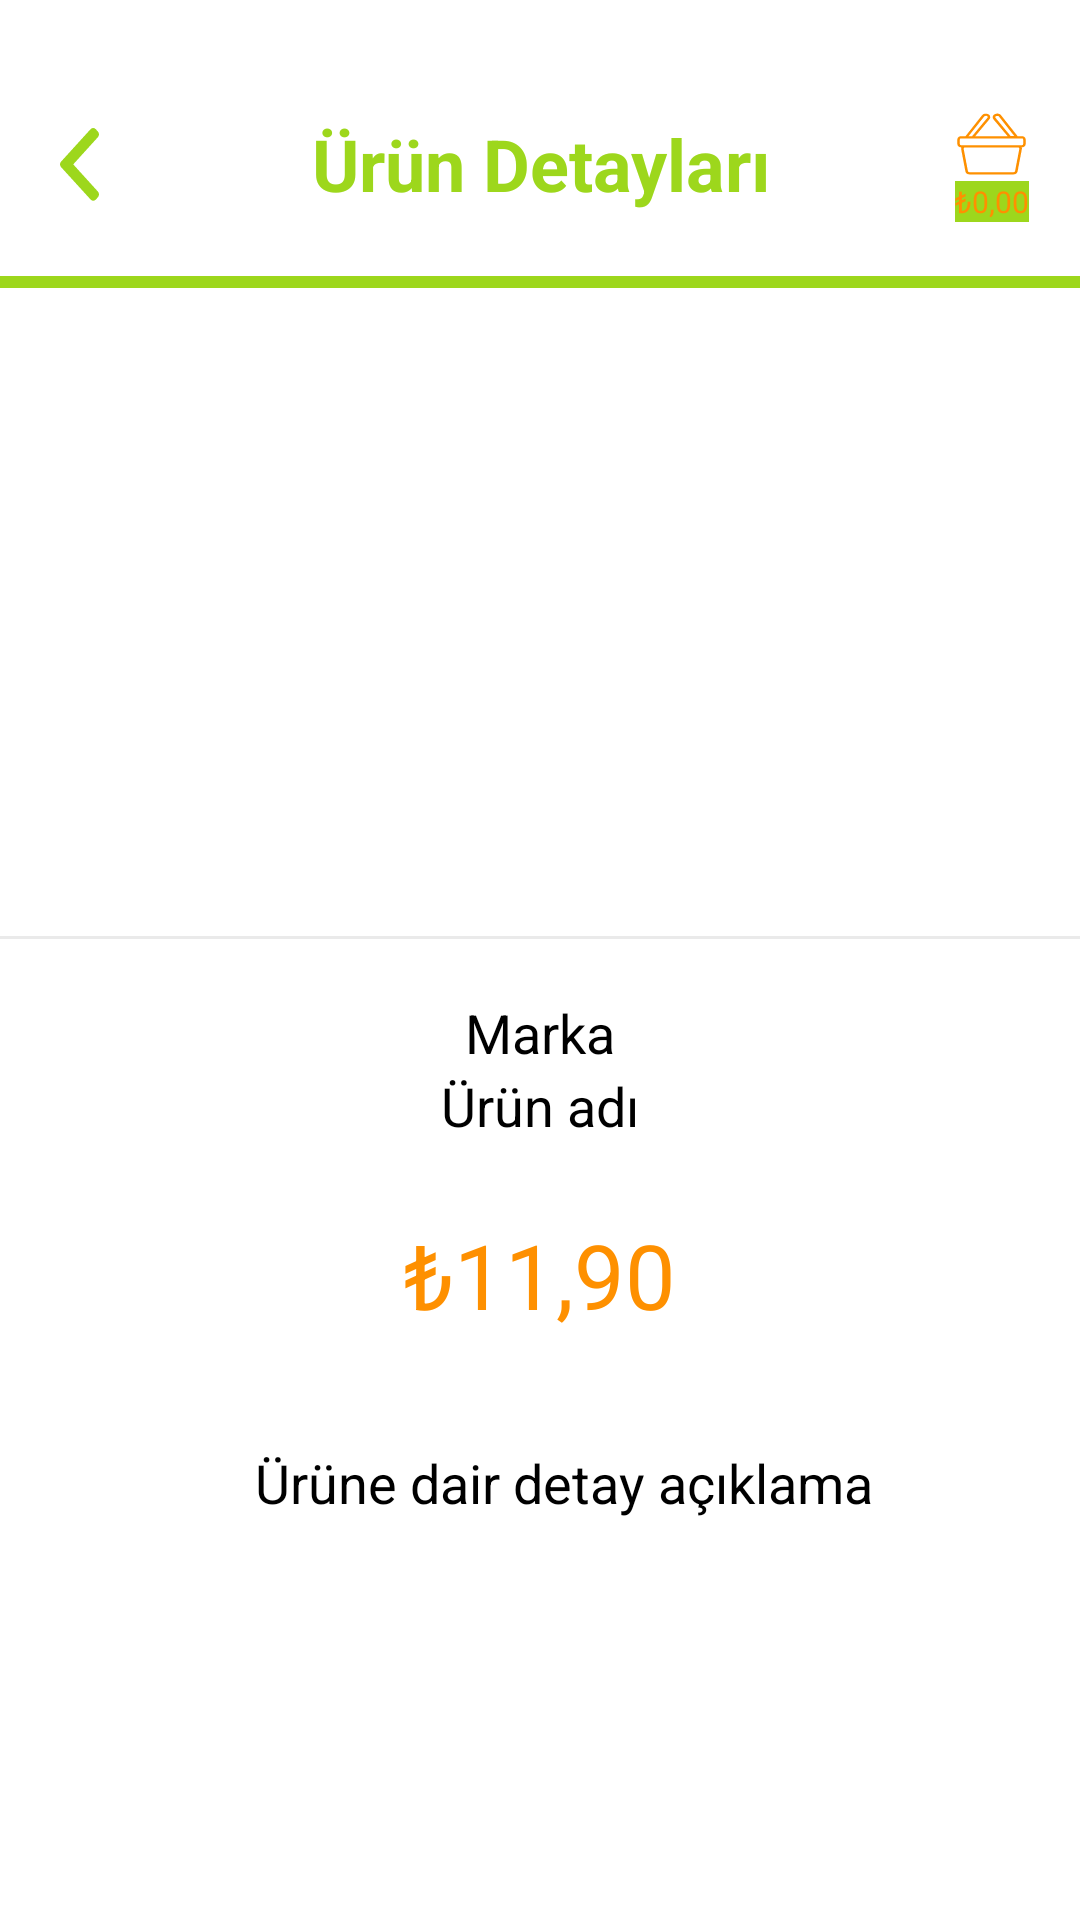

Named icons in this screenshot (1080 × 1920) and their centers, (x,y):
back: (79,164)
shopping cart: (991,144)
